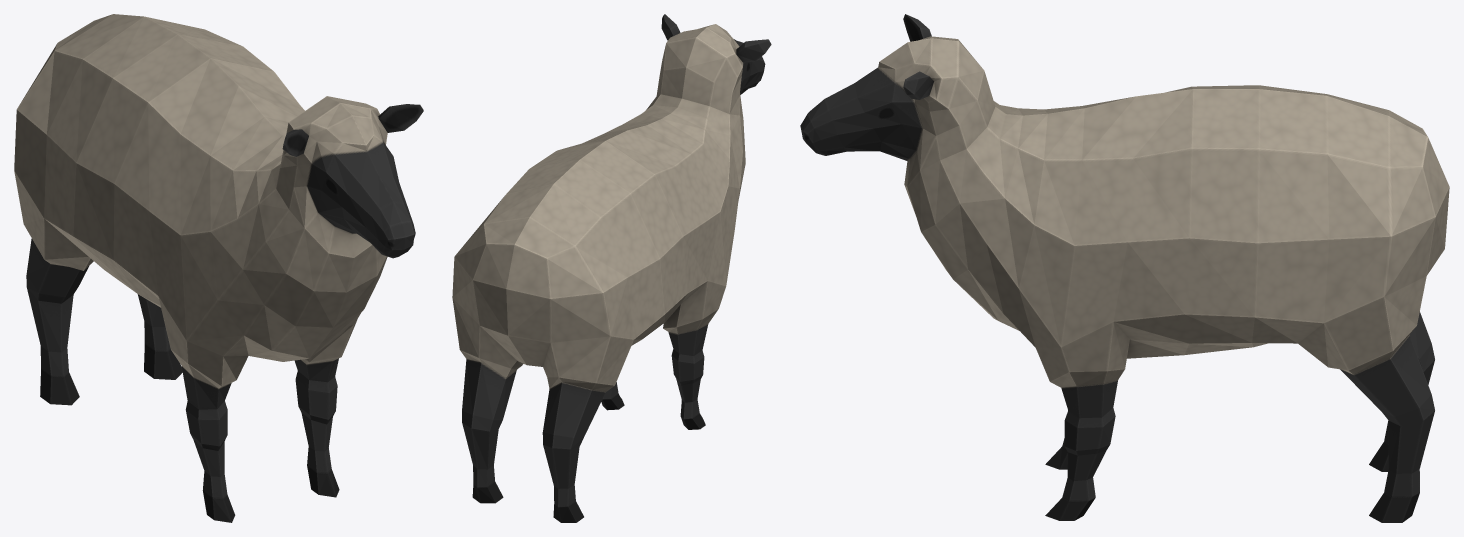
The model's file is sheep.glb.
The picture shows the model from 3 angles, left to right: view 1: azimuth 30°, elevation 25°; view 2: azimuth 150°, elevation 25°; view 3: azimuth 270°, elevation 25°; orthographic projection. The views are drawn at different scales.
Visible parts, largest first — view 1: geometry_0; view 2: geometry_0; view 3: geometry_0.
Boxes of the visible parts, box(x1,y1,x2,y2) form: geometry_0: box(14, 14, 423, 522); geometry_0: box(452, 14, 771, 522); geometry_0: box(800, 14, 1449, 522).
Bounding box in the file's own units: 0.4979 × 1 × 1.3.
Materials: 1 (1 with a texture image).
